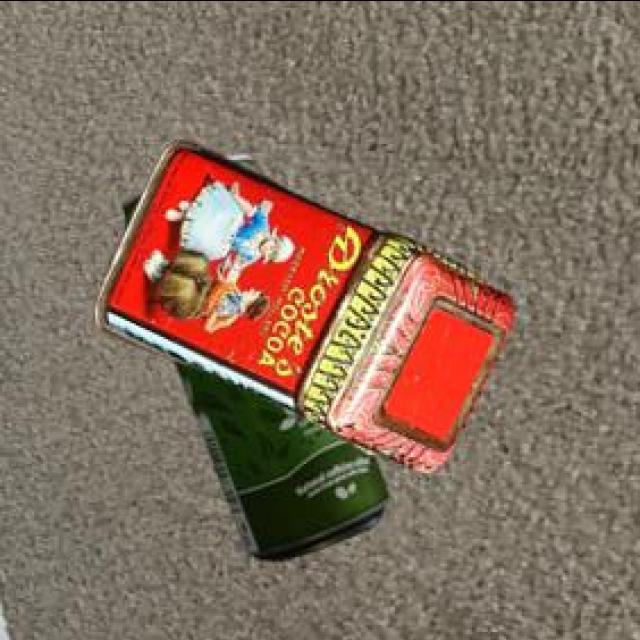logam: (92, 144, 510, 475), (119, 155, 385, 562)
